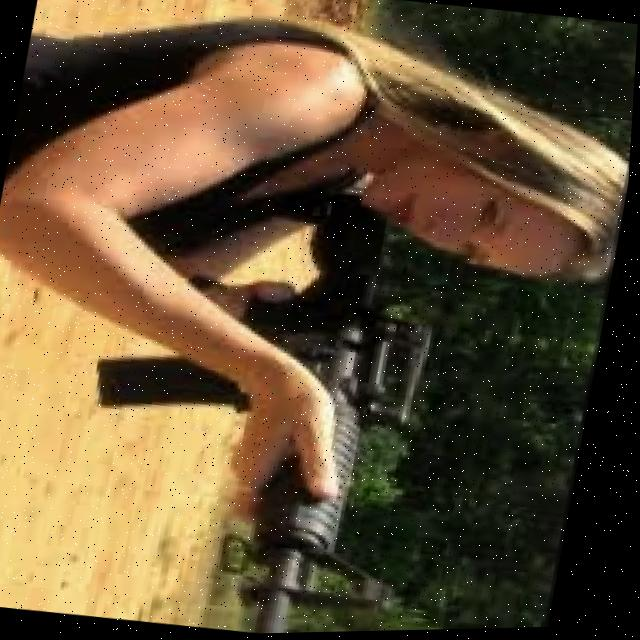firearm: (58, 164, 467, 638)
